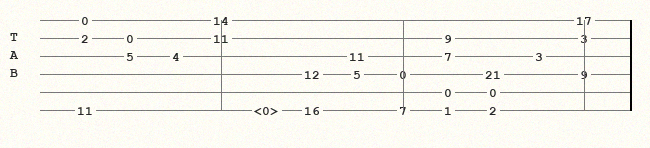0: (81, 14, 93, 26), (126, 32, 138, 44), (399, 68, 411, 80), (444, 86, 456, 98), (489, 86, 501, 98)
1: (444, 104, 456, 116)
11: (77, 104, 97, 116), (213, 32, 233, 44), (349, 50, 369, 62)
12: (304, 68, 324, 80)
14: (213, 14, 233, 26)
16: (304, 104, 324, 116)
17: (576, 14, 596, 26)
2: (81, 32, 93, 44), (489, 104, 501, 116)
21: (485, 68, 505, 80)
3: (535, 50, 547, 62), (580, 32, 592, 44)
4: (172, 50, 184, 62)
5: (126, 50, 138, 62), (353, 68, 365, 80)
7: (399, 104, 411, 116), (444, 50, 456, 62)
9: (444, 32, 456, 44), (580, 68, 592, 80)
harmonic: (254, 104, 283, 116)
